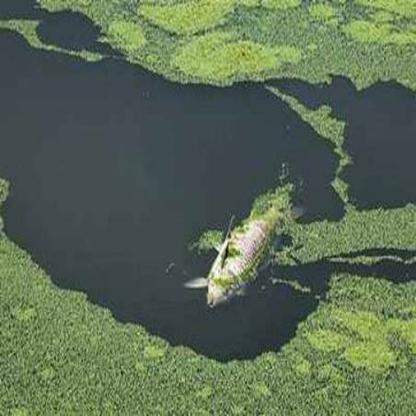deceased fish: (175, 192, 288, 309)
